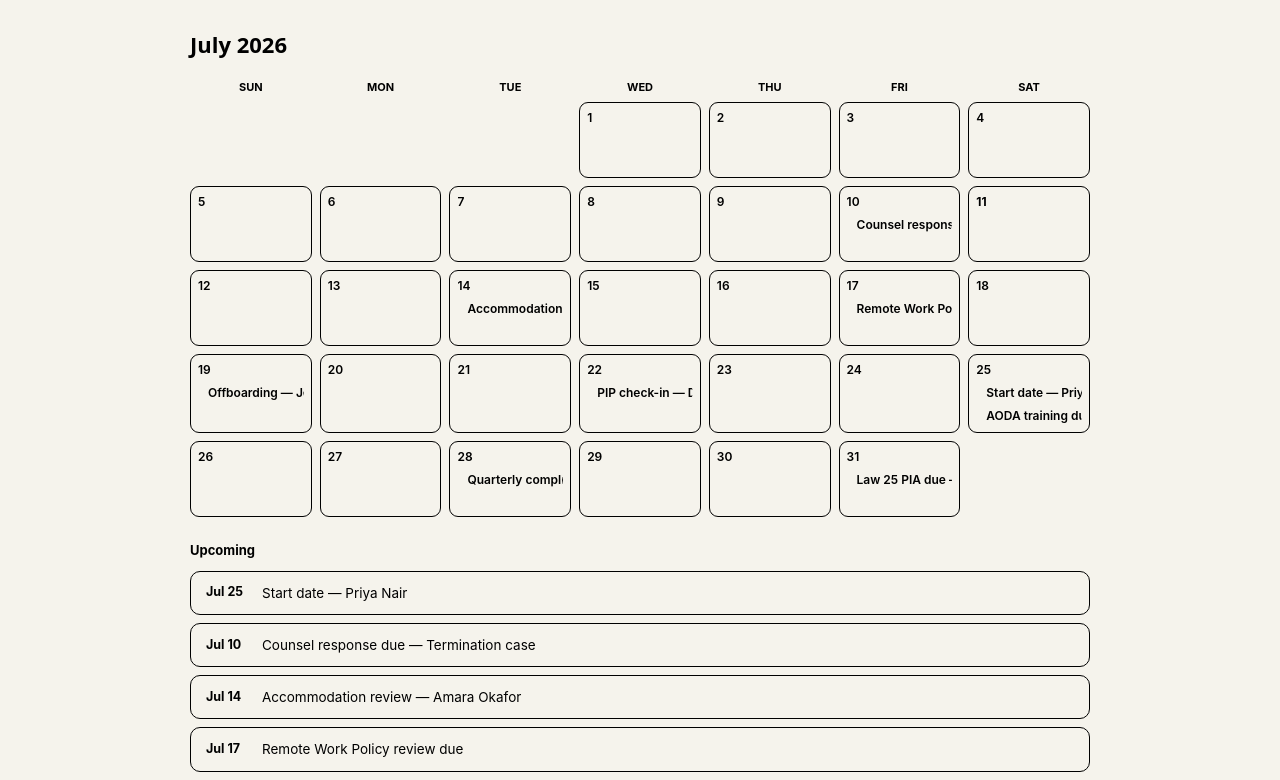
CalendarView › opens the Advisor rail with the event detail when an event is clicked
Click the button "Counsel response due — Termination case". click: (899, 224)
box: x1=847 y1=214 x2=952 y2=234
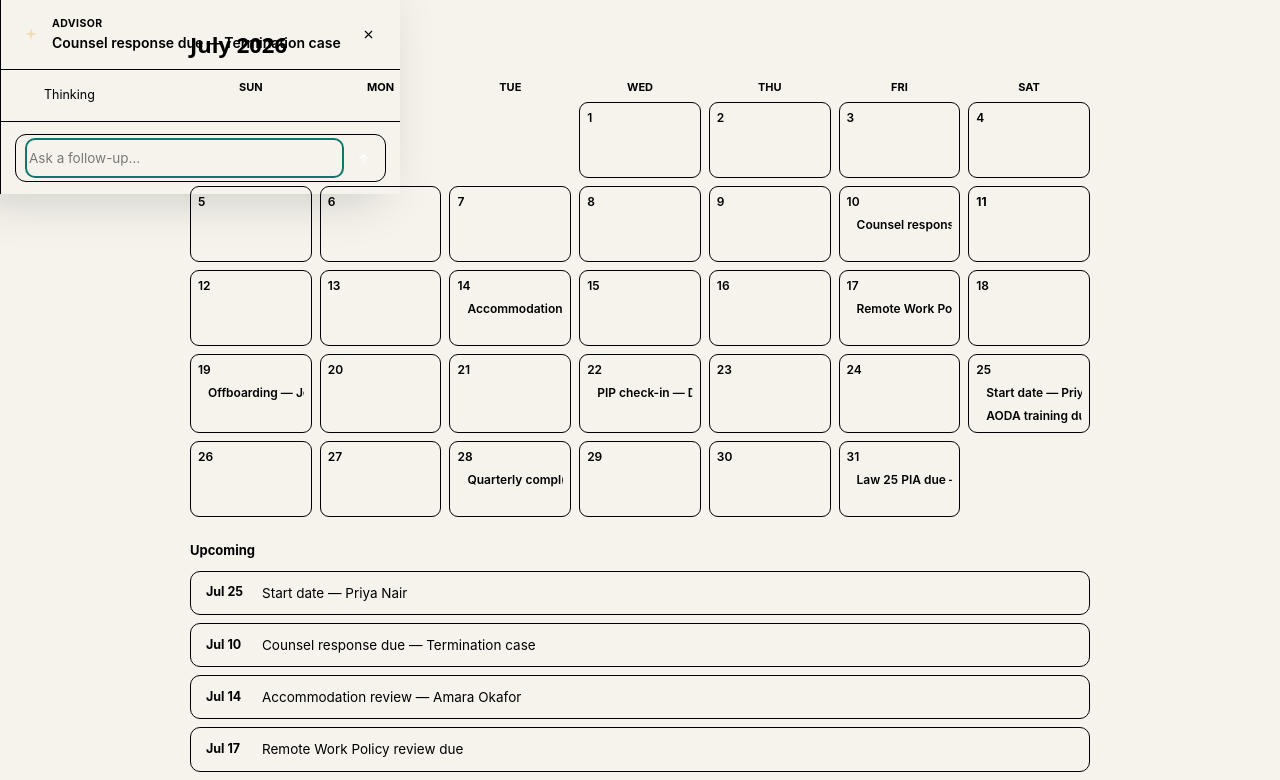
expect the text "Counsel response due — Termination case" is shown: met, box x1=52 y1=32 x2=341 y2=53
